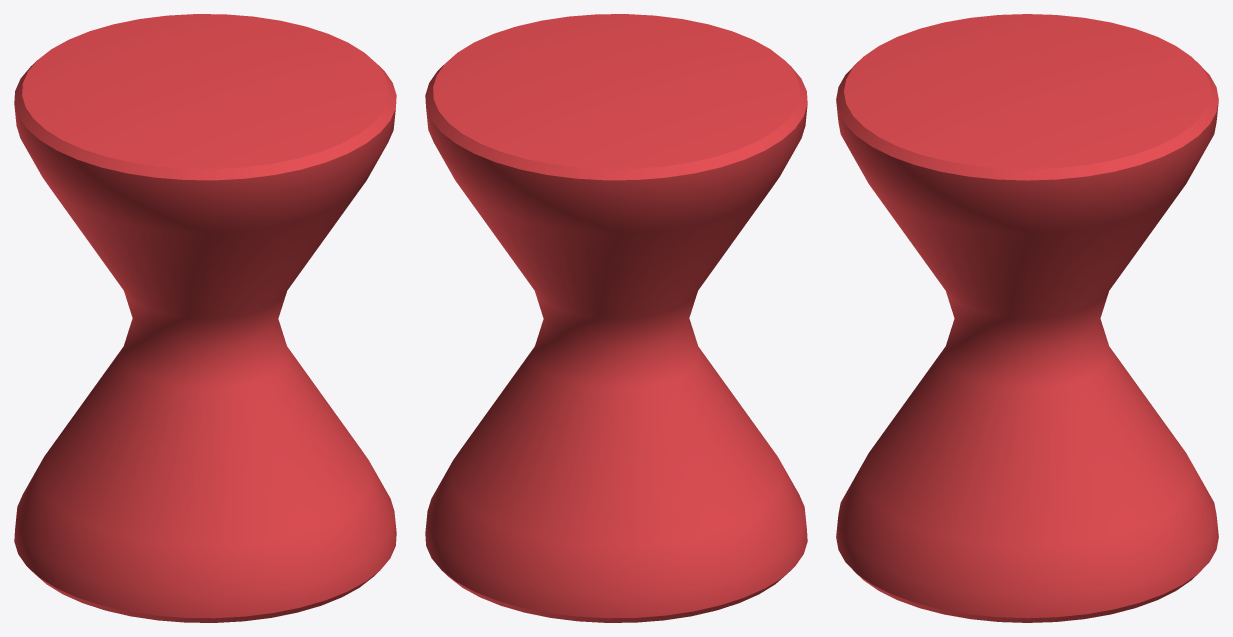
Rendered from banqueta_carretel_vermelha.glb.
3 views of the same model, side by side, from view 1: azimuth 30°, elevation 25°; view 2: azimuth 150°, elevation 25°; view 3: azimuth 270°, elevation 25° (orthographic).
Parts seen in each view (by area): view 1: banqueta_carretel_vermelha; view 2: banqueta_carretel_vermelha; view 3: banqueta_carretel_vermelha.
Boxes of the visible parts, x1,y1,x2,y2 form: banqueta_carretel_vermelha: (14, 14, 396, 622); banqueta_carretel_vermelha: (425, 14, 807, 622); banqueta_carretel_vermelha: (836, 14, 1218, 622).
Bounding box in the file's own units: 0.344 × 0.456 × 0.344.
1 material, 1 textured.
